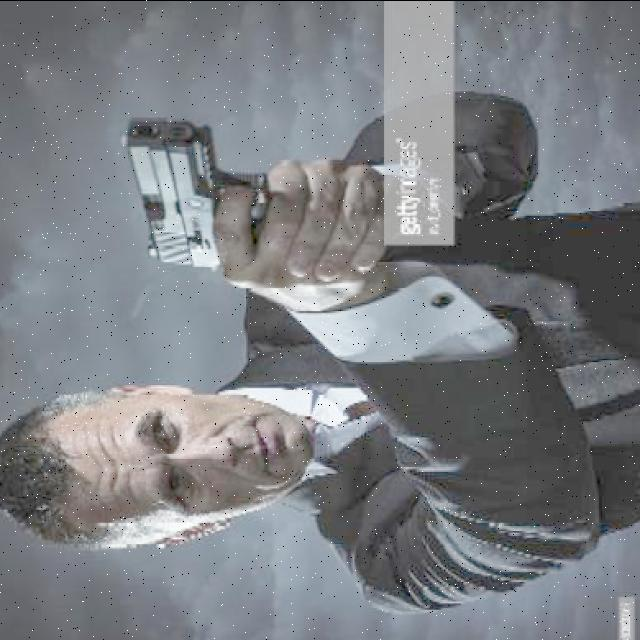Guns: (121, 117, 369, 276)
